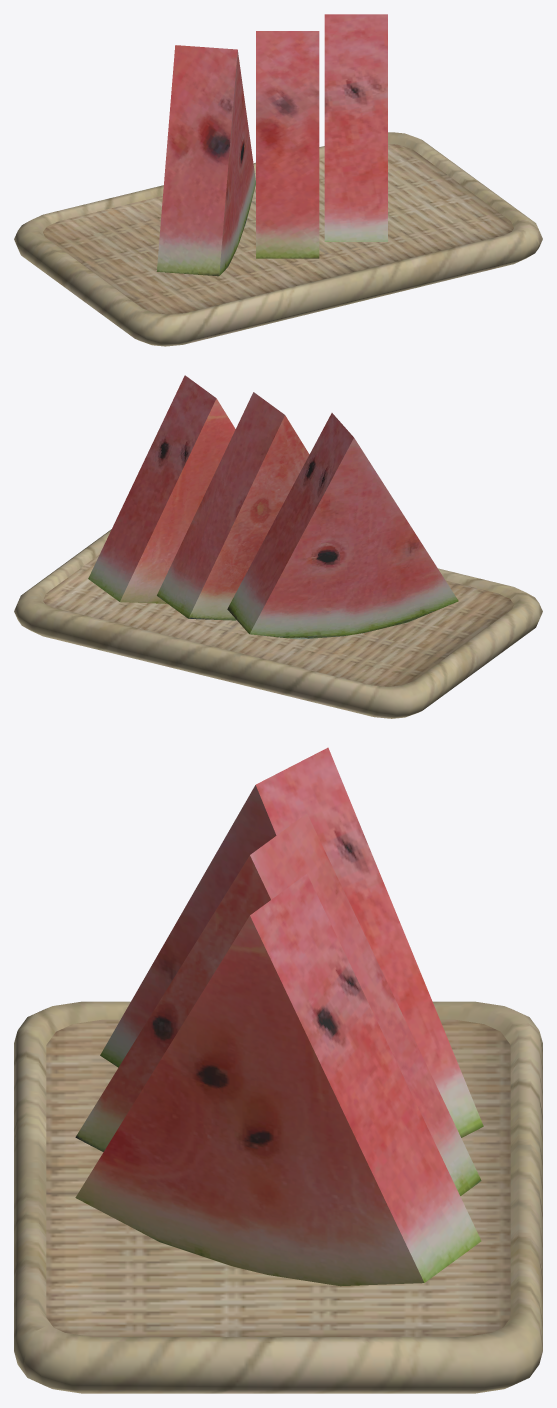
Rendered from Watermelon02.fbx.
The picture shows the model from 3 angles, top to bottom: view 1: azimuth 30°, elevation 25°; view 2: azimuth 150°, elevation 25°; view 3: azimuth 270°, elevation 25°; orthographic projection. The views are drawn at different scales.
Parts seen in each view (by area): view 1: Watermelon02; view 2: Watermelon02; view 3: Watermelon02.
Boxes of the visible parts, <box> form: Watermelon02: <box>14,14,542,346</box>; Watermelon02: <box>14,375,542,718</box>; Watermelon02: <box>14,747,542,1393</box>.
Size of the model in its own units: 36.85 by 19.04 by 23.01.
